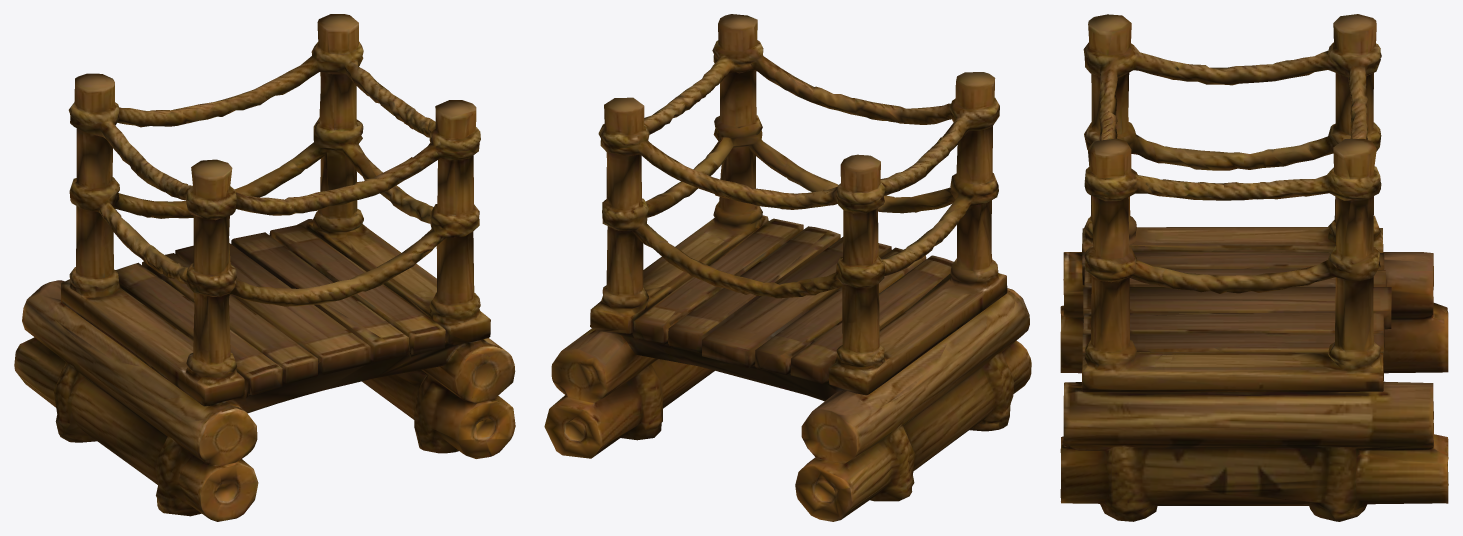
Rendered from log_bridge_github.glb.
The picture shows the model from 3 angles, left to right: view 1: azimuth 30°, elevation 25°; view 2: azimuth 150°, elevation 25°; view 3: azimuth 270°, elevation 25°; orthographic projection. The views are drawn at different scales.
Parts seen in each view (by area): view 1: log_bridge_github; view 2: log_bridge_github; view 3: log_bridge_github.
Boxes of the visible parts, box(x1,y1,x2,y2) form: log_bridge_github: box(14, 14, 515, 521); log_bridge_github: box(544, 14, 1031, 521); log_bridge_github: box(1060, 14, 1448, 521).
Size of the model in its own units: 0.3962 by 0.3922 by 0.3873.
1 material, 1 textured.
